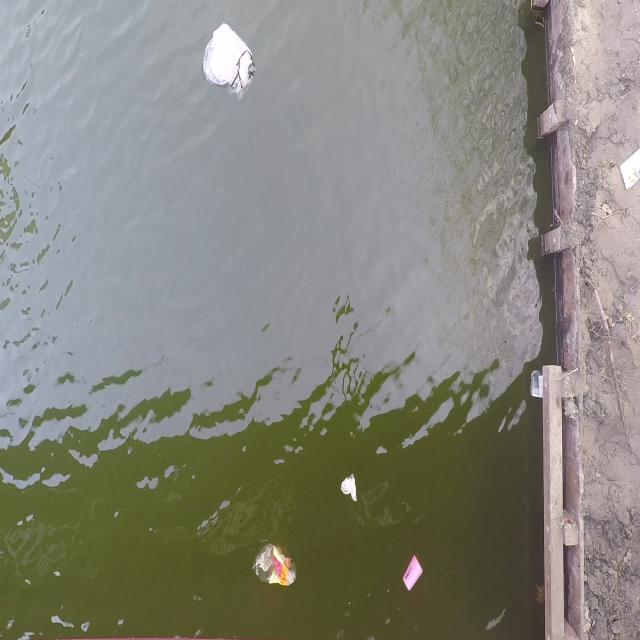Autre plastique: (399, 551, 427, 599)
Sac plastique: (196, 22, 258, 102), (247, 539, 300, 596)
